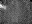person: (1, 4, 7, 11)
